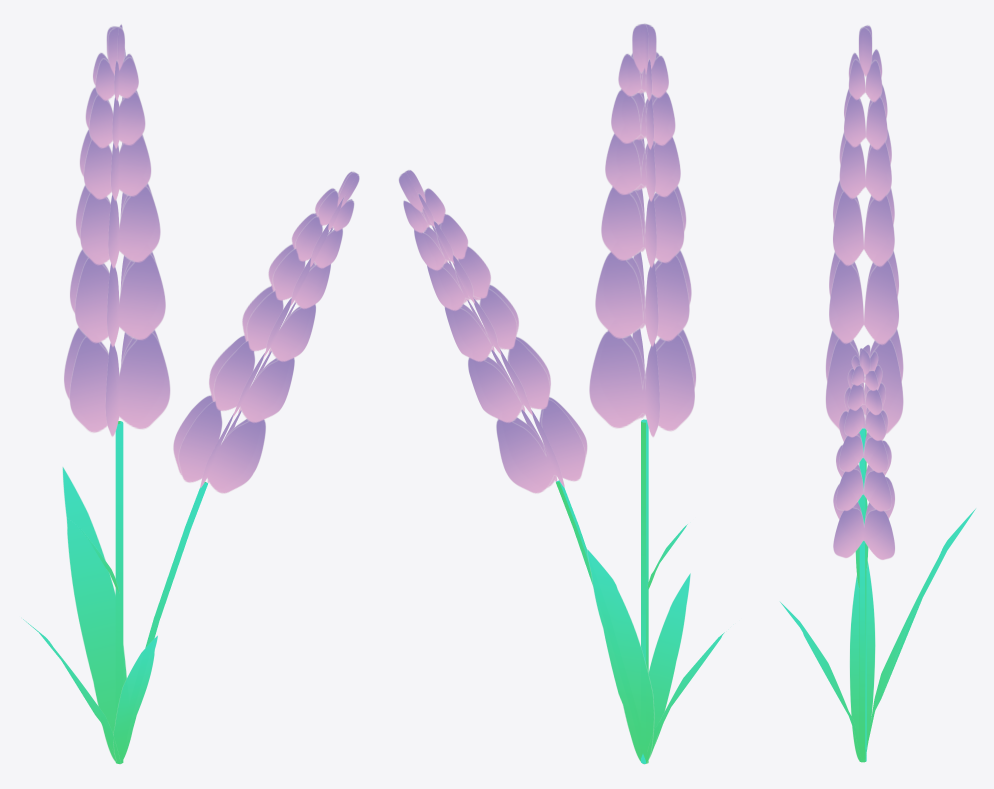
Rendered from Flowers_n03_09.glb.
3 renders of one model, left to right at view 1: azimuth 30°, elevation 25°; view 2: azimuth 150°, elevation 25°; view 3: azimuth 270°, elevation 25°, orthographic.
Parts seen in each view (by area): view 1: polySurface512; view 2: polySurface512; view 3: polySurface512.
Boxes of the visible parts, x1,y1,x2,y2 form: polySurface512: [23, 24, 359, 764]; polySurface512: [398, 23, 724, 764]; polySurface512: [779, 25, 976, 762].
Size of the model in its own units: 0.4345 by 0.8997 by 0.2191.
1 material, 1 textured.
